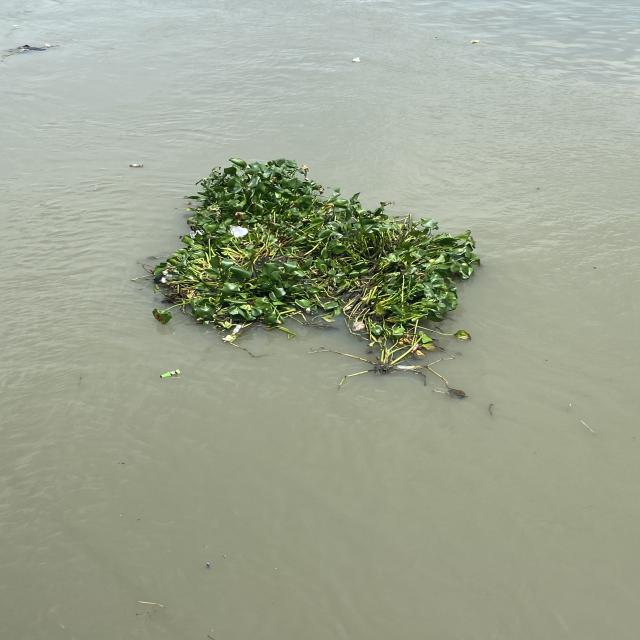Biological Debris: (125, 162, 144, 168)
Organic Debris: (138, 156, 483, 403), (0, 43, 61, 59), (134, 599, 172, 618)
Plastic: (158, 367, 182, 379), (230, 324, 242, 336), (351, 55, 362, 64), (468, 39, 481, 44), (204, 561, 210, 571)
Rubber: (18, 44, 48, 52)
